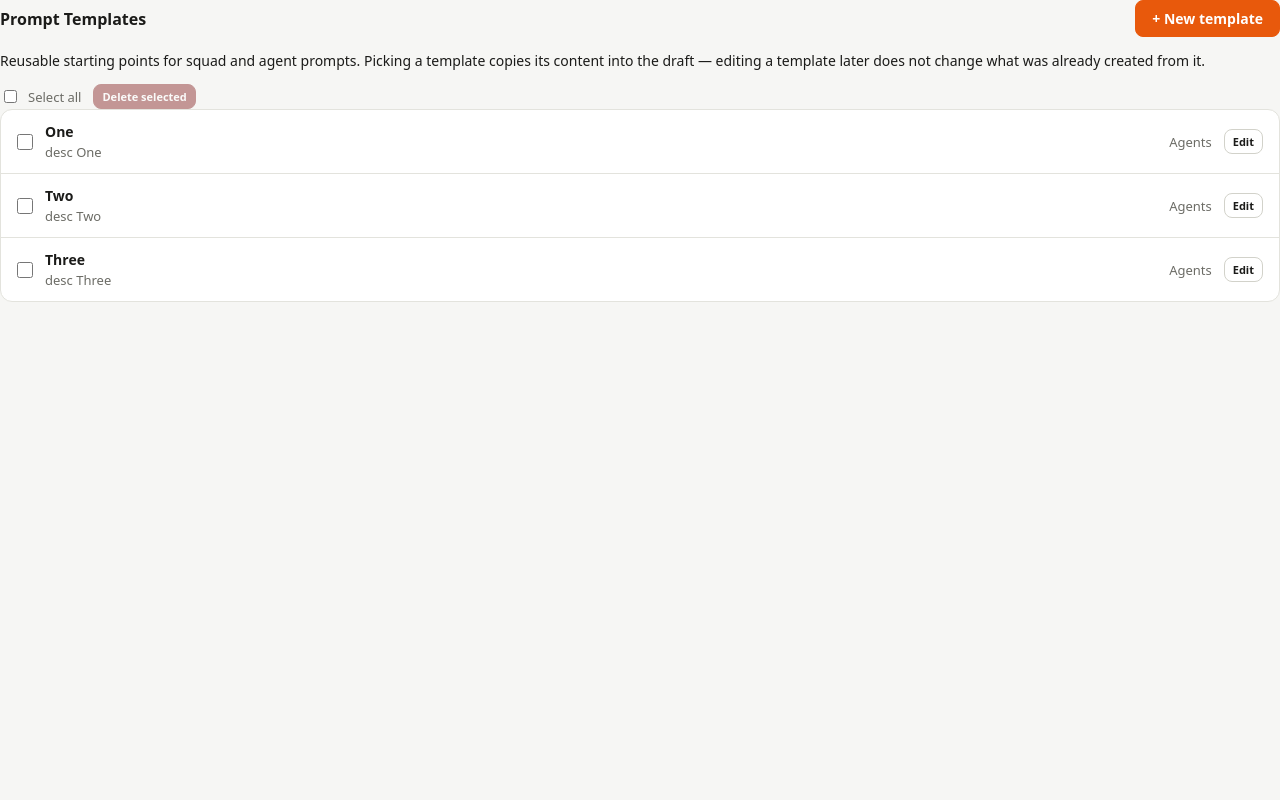
selection + bulk delete › bulk delete failure surfaces the error and keeps the dialog closed
The width and height of the screenshot is (1280, 800).
Step 1. Click the checkbox named "Select template One" → (25, 142), box [17,134,33,150]
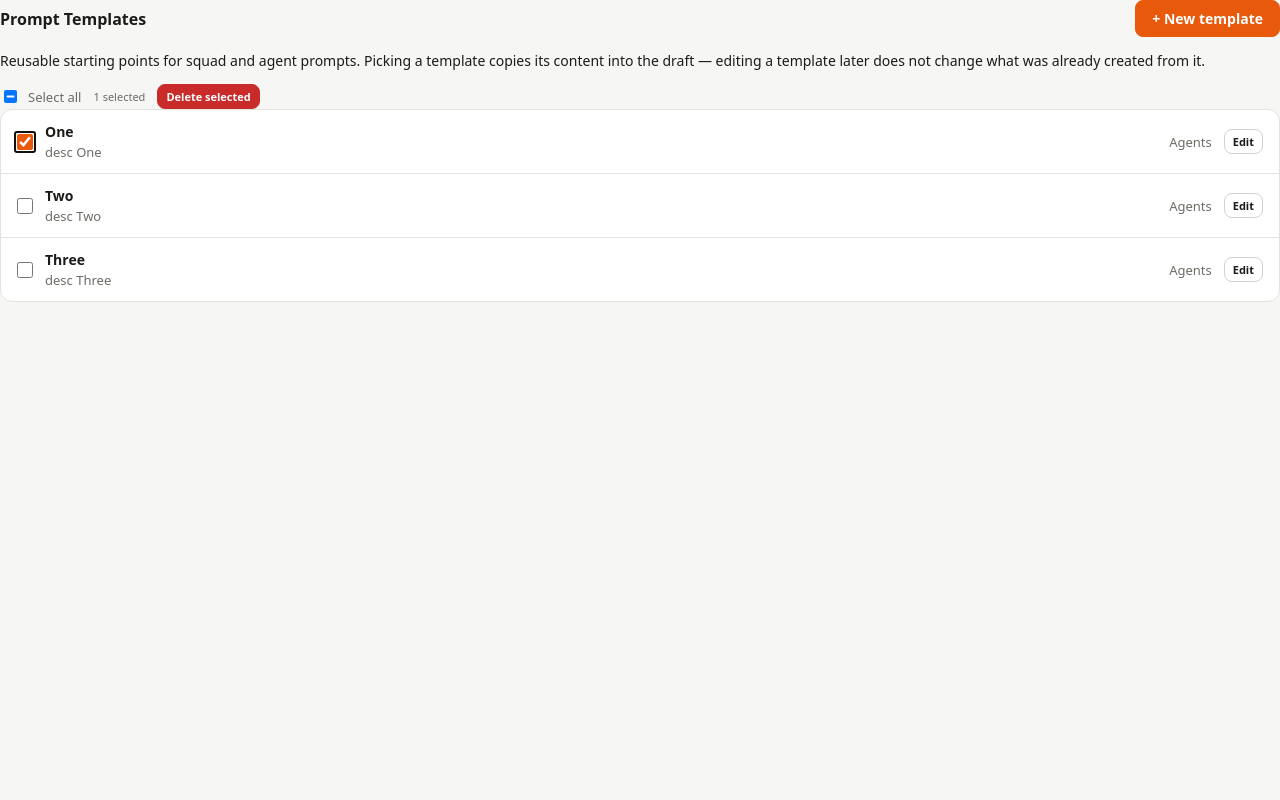
Step 2. Click the button with aria-label "Delete 1 selected templates" → (209, 96), box [157,84,260,109]
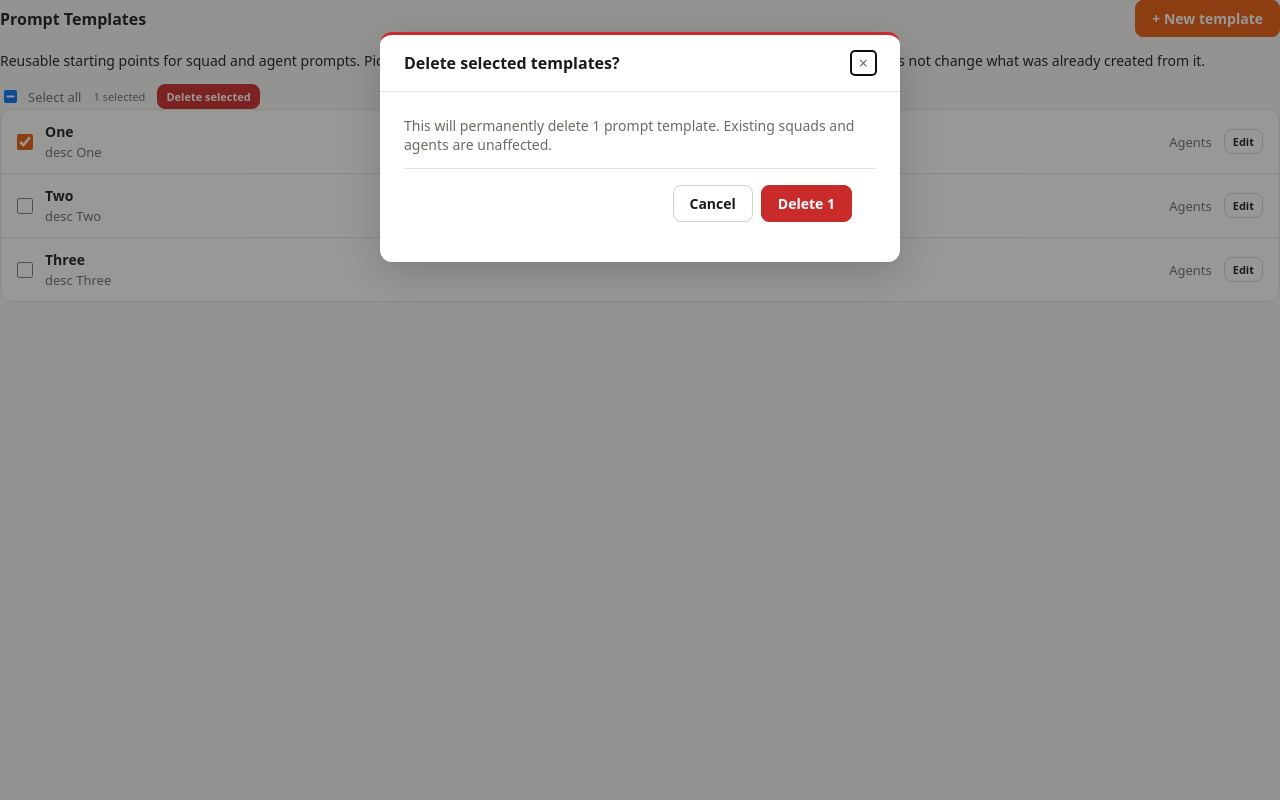
Step 3. Click the button "Delete 1" → (806, 204), box [761,185,852,222]
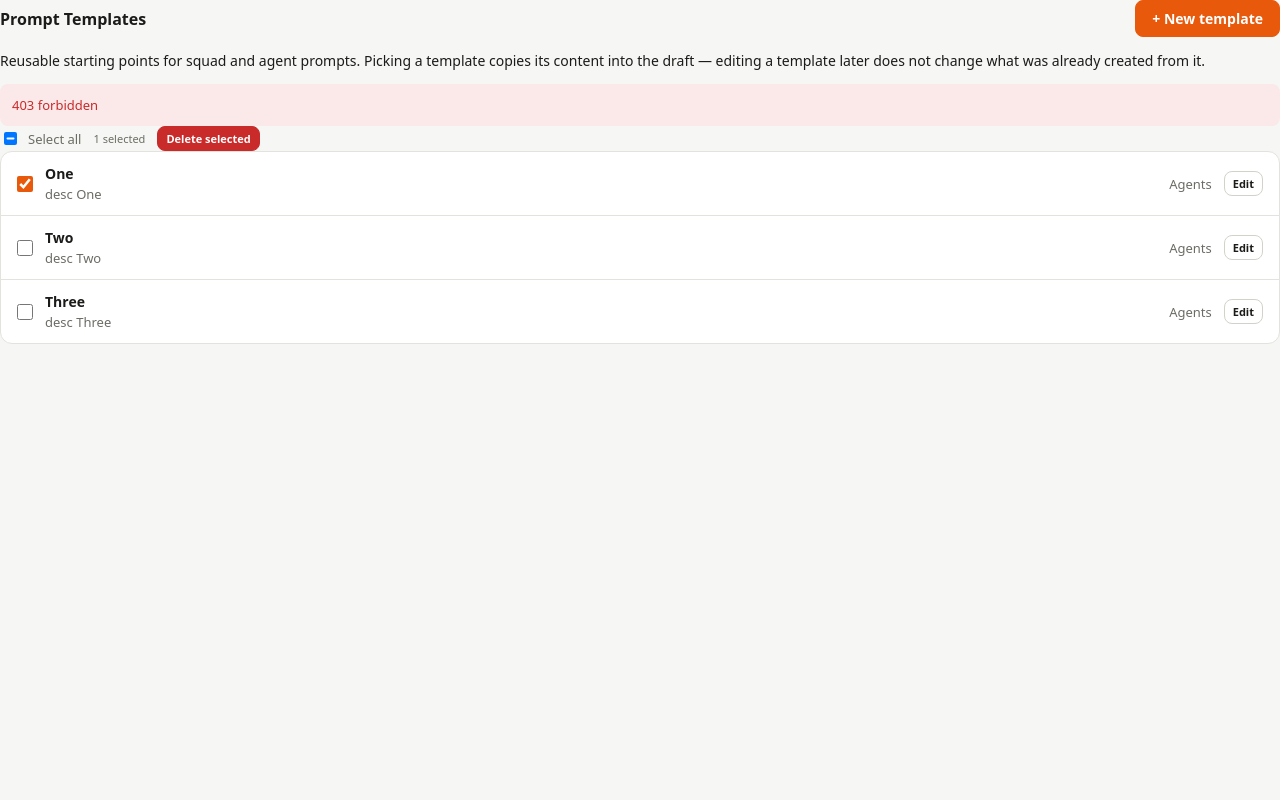
expect the text "403 forbidden" is shown: met, box [0,84,1279,126]
expect the dialog is gone: met
